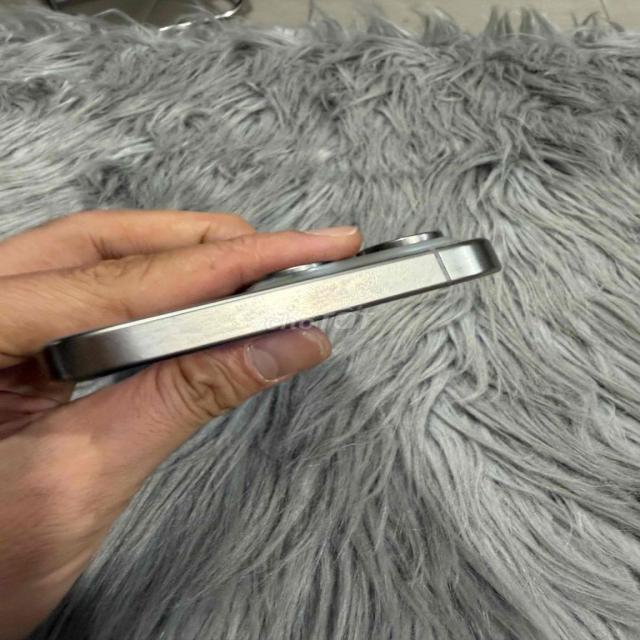gen_15: (28, 224, 504, 401)
